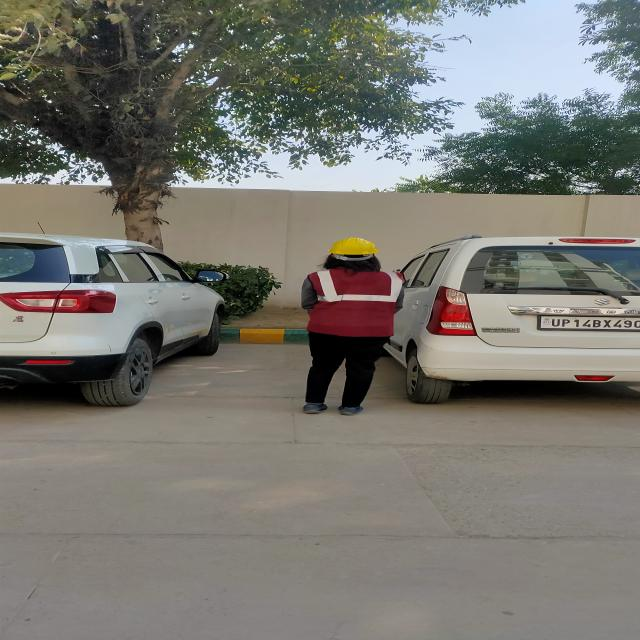safe: (306, 237, 404, 416)
